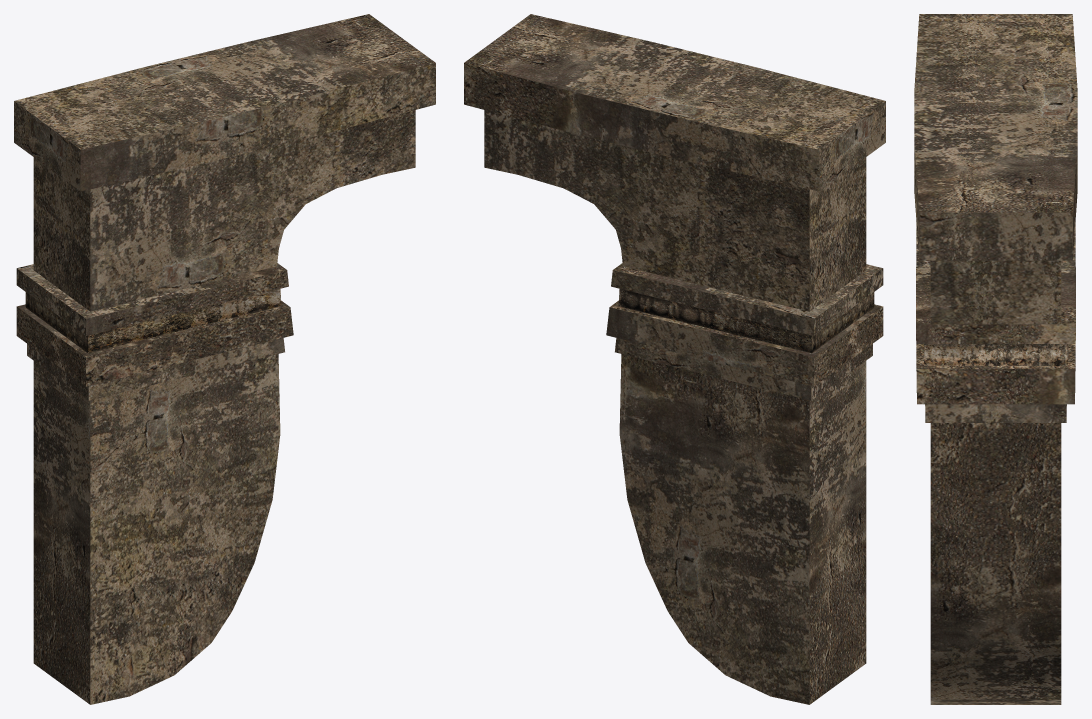
The model's file is materials_5_decoration_10.fbx.
The picture shows the model from 3 angles, left to right: view 1: azimuth 30°, elevation 25°; view 2: azimuth 150°, elevation 25°; view 3: azimuth 270°, elevation 25°; orthographic projection. The views are drawn at different scales.
Parts seen in each view (by area): view 1: materials_5_decoration_10; view 2: materials_5_decoration_10; view 3: materials_5_decoration_10.
Part boxes in pixels (<box>): materials_5_decoration_10: <box>14,14,435,704</box>; materials_5_decoration_10: <box>464,14,885,704</box>; materials_5_decoration_10: <box>914,14,1077,704</box>.
Bounding box in the file's own units: 36.34 × 55.12 × 12.57.
